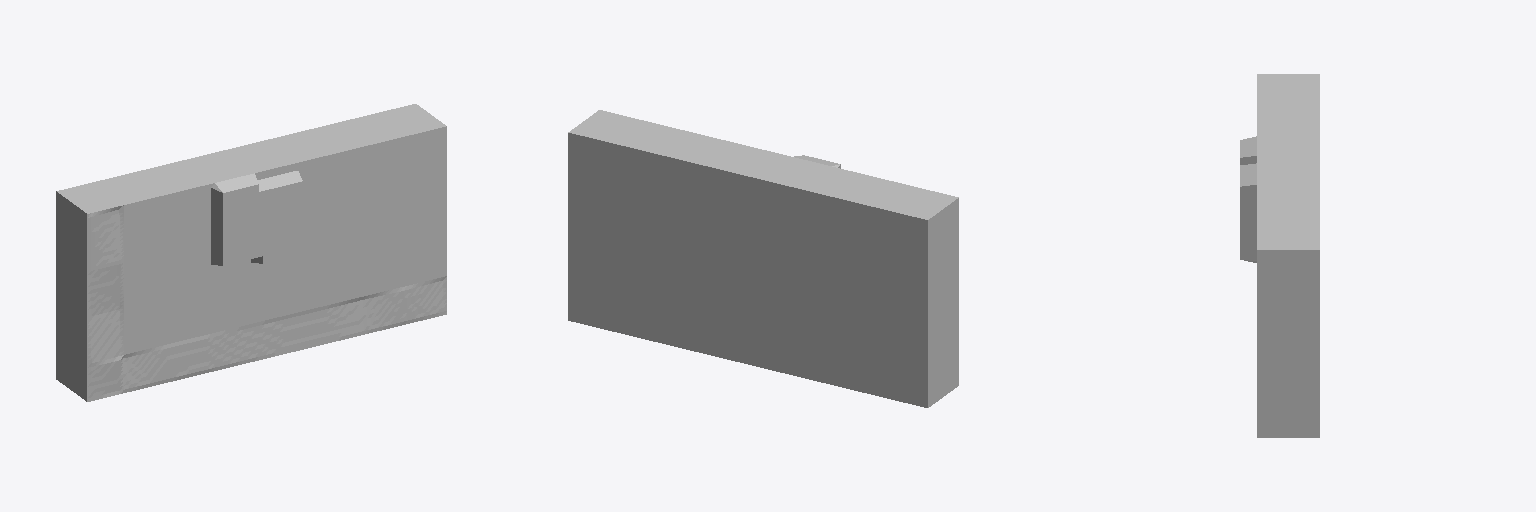
Rendered from rectangular_prism_bumps_8_6.obj.
The picture shows the model from 3 angles: view 1: azimuth 30°, elevation 25°; view 2: azimuth 150°, elevation 25°; view 3: azimuth 270°, elevation 25°; orthographic projection.
Bounding box in the file's own units: 10 × 5 × 1.91.